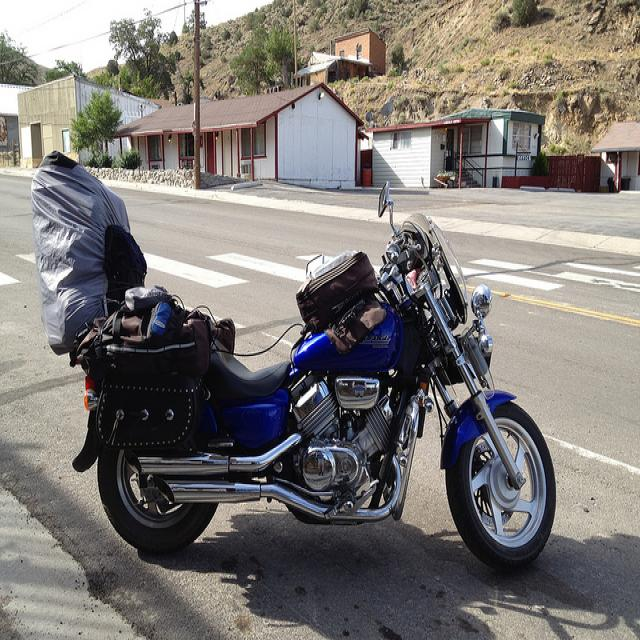motor: (70, 180, 557, 572)
